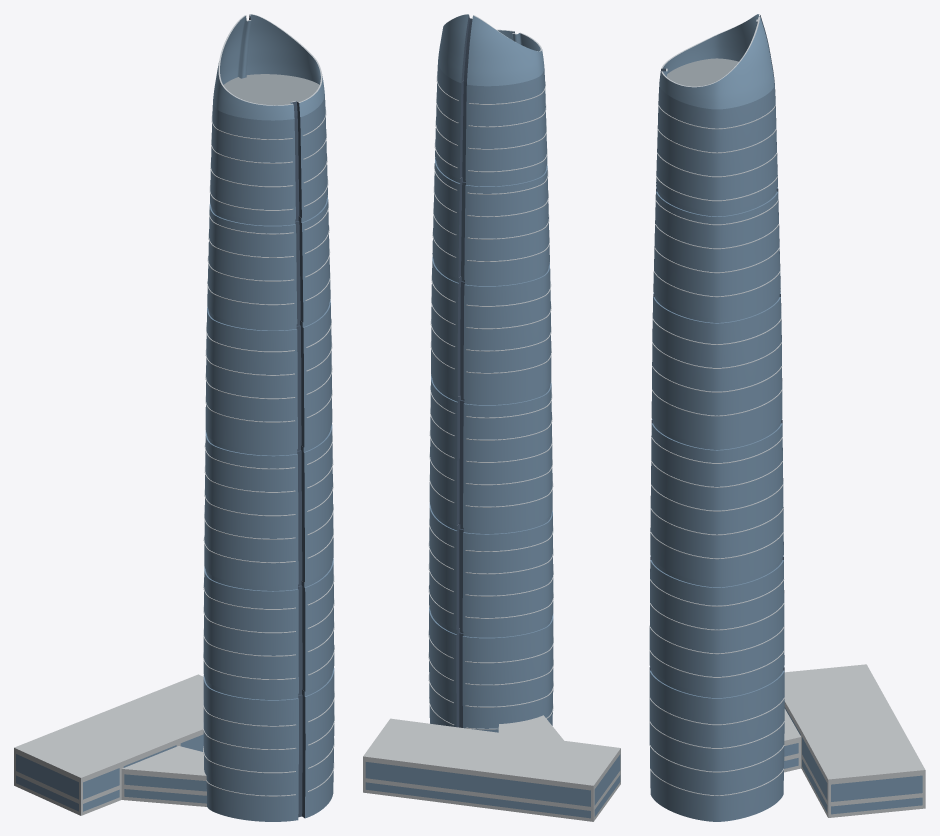
Rendered from wuhan-center.detail.glb.
3 views of the same model, side by side, from view 1: azimuth 30°, elevation 25°; view 2: azimuth 150°, elevation 25°; view 3: azimuth 270°, elevation 25° (orthographic). The views are drawn at different scales.
Parts seen in each view (by area): view 1: Wuhan Center; view 2: Wuhan Center; view 3: Wuhan Center.
Boxes of the visible parts, left/top/right/bottom form: Wuhan Center: left=14, top=14, right=334, bottom=821; Wuhan Center: left=363, top=14, right=620, bottom=821; Wuhan Center: left=649, top=14, right=925, bottom=821.
Size of the model in its own units: 147 by 443 by 143.
